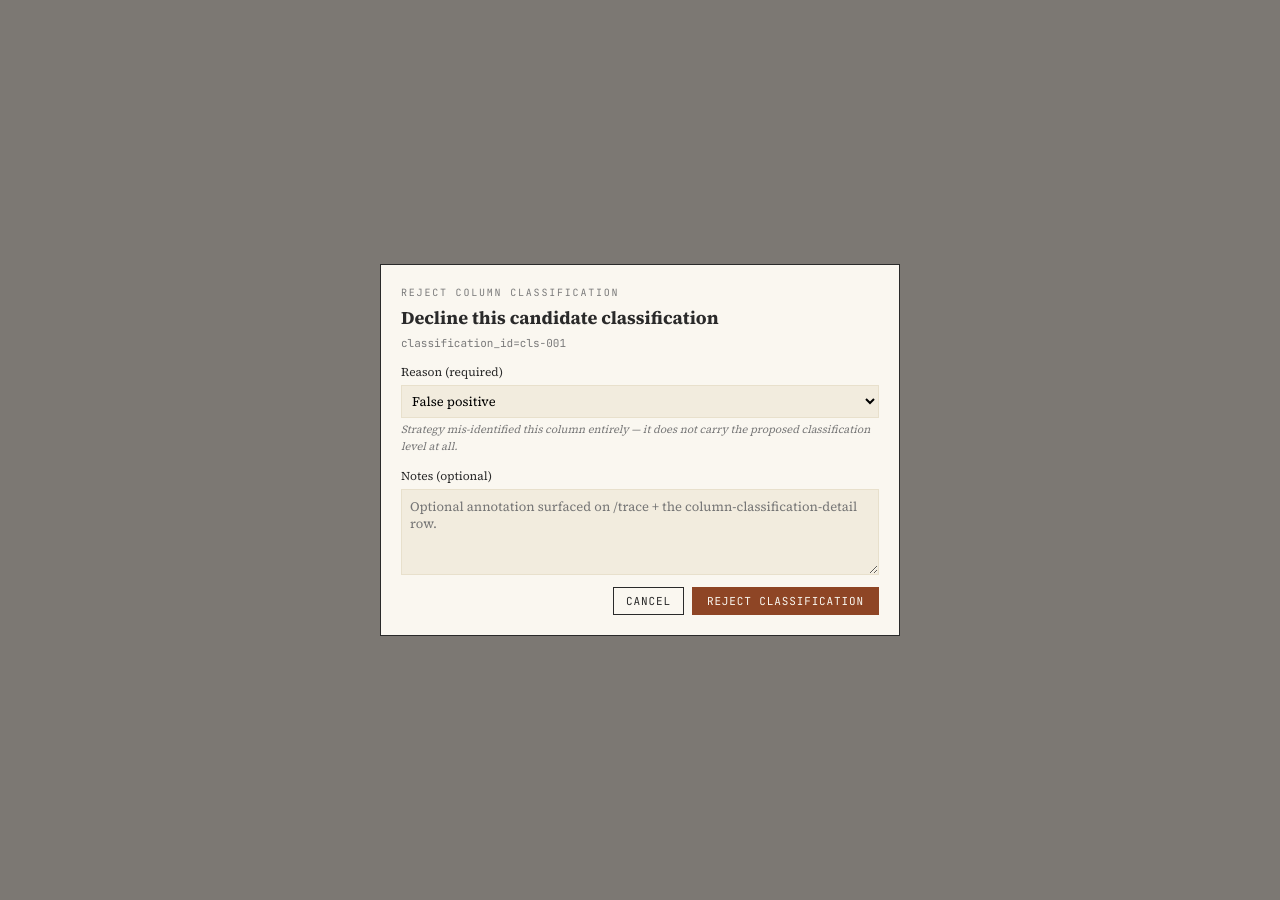
Test: ColumnClassificationRejectionModal › surfaces an error banner when the action returns ok=false
Click the button with test id "column-classification-reject-submit".
click(785, 601)  # box [692,587,879,615]
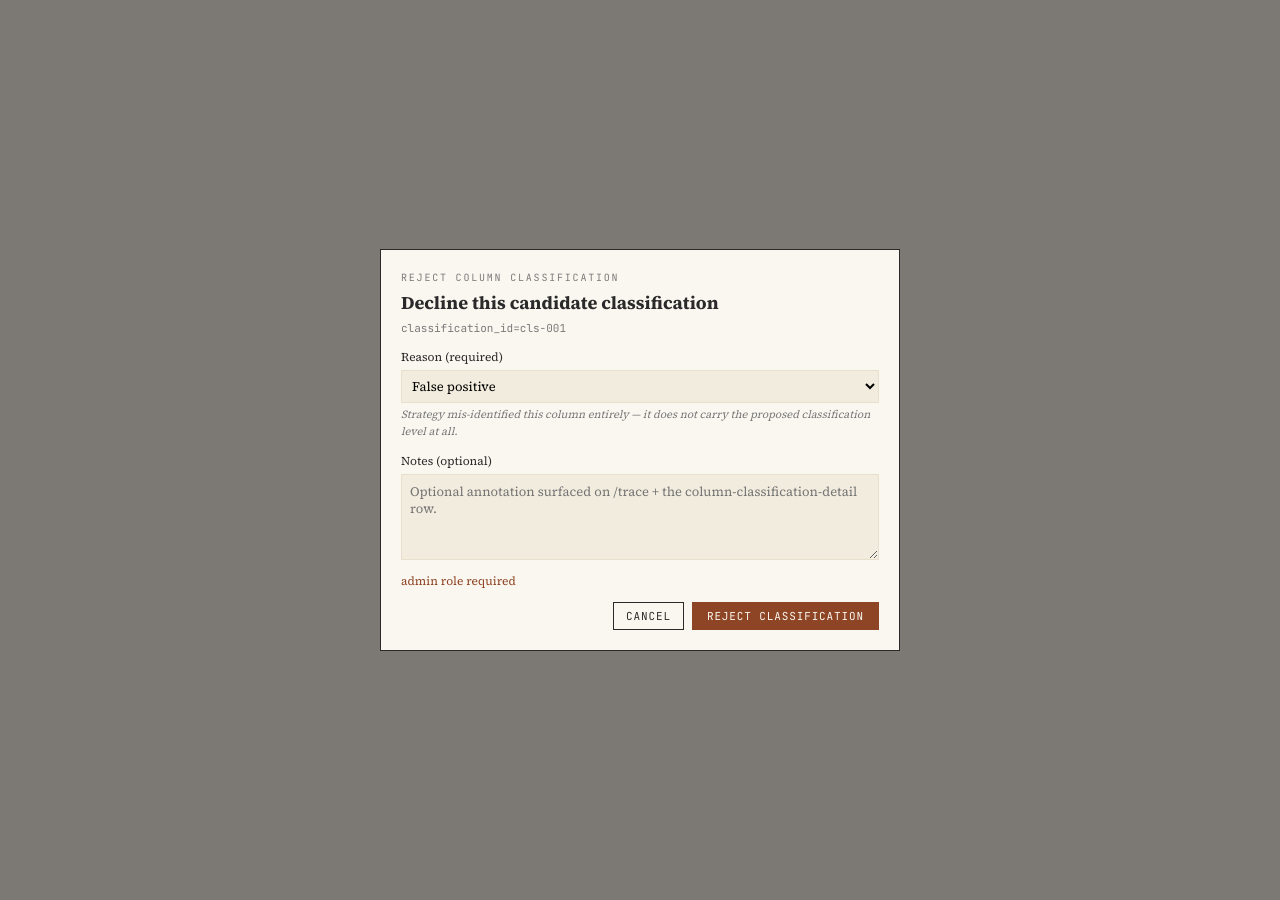
Expected: the message with test id "column-classification-reject-error" reads "admin role required", [401,573,516,589]
